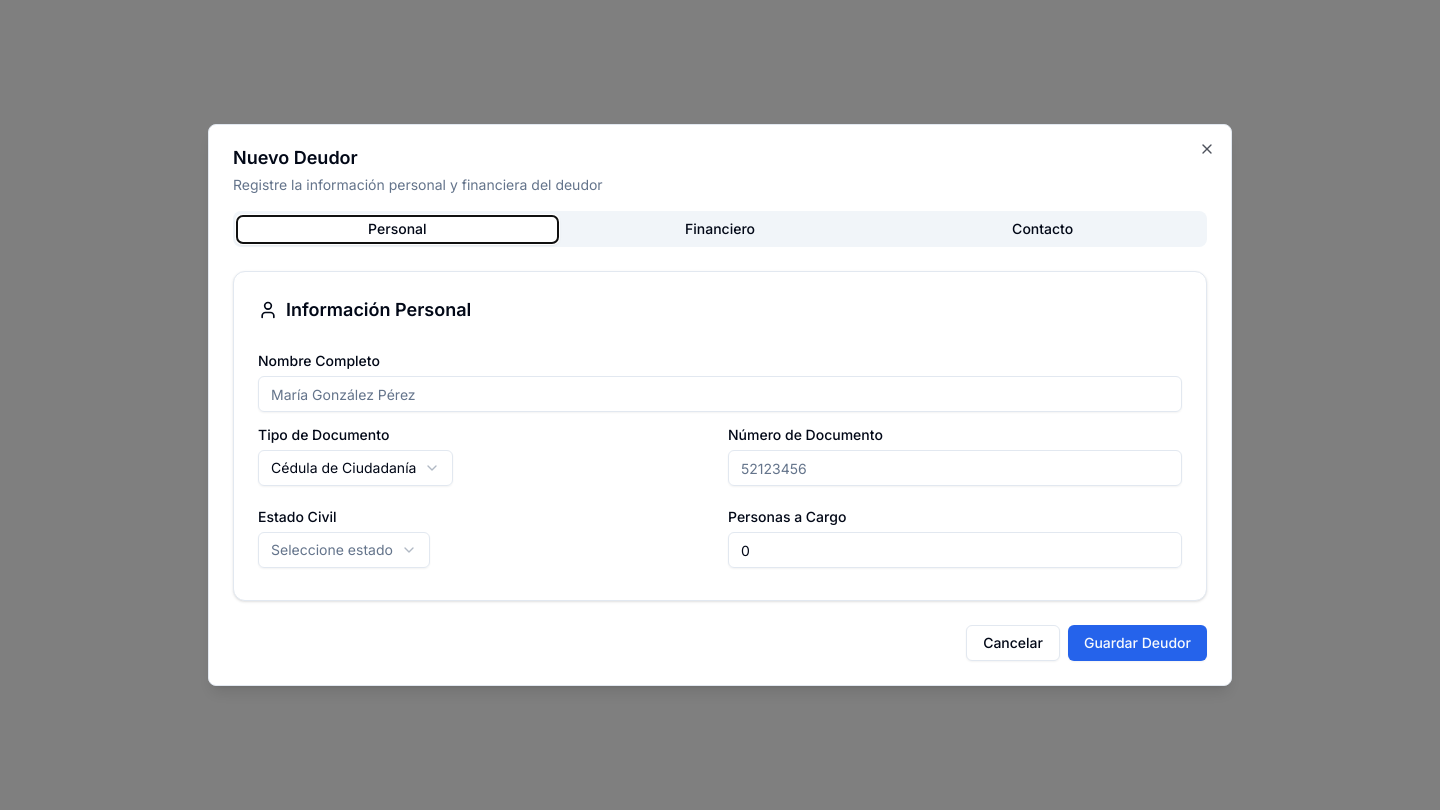
it: Nuevo Deudor (debtors/create-debtor-dialog) › al guardar con el nombre vacío SÍ muestra el error
This screenshot has width=1440, height=810.
Click the button "Guardar Deudor" at (1138, 643), box left=1068, top=625, right=1207, bottom=661
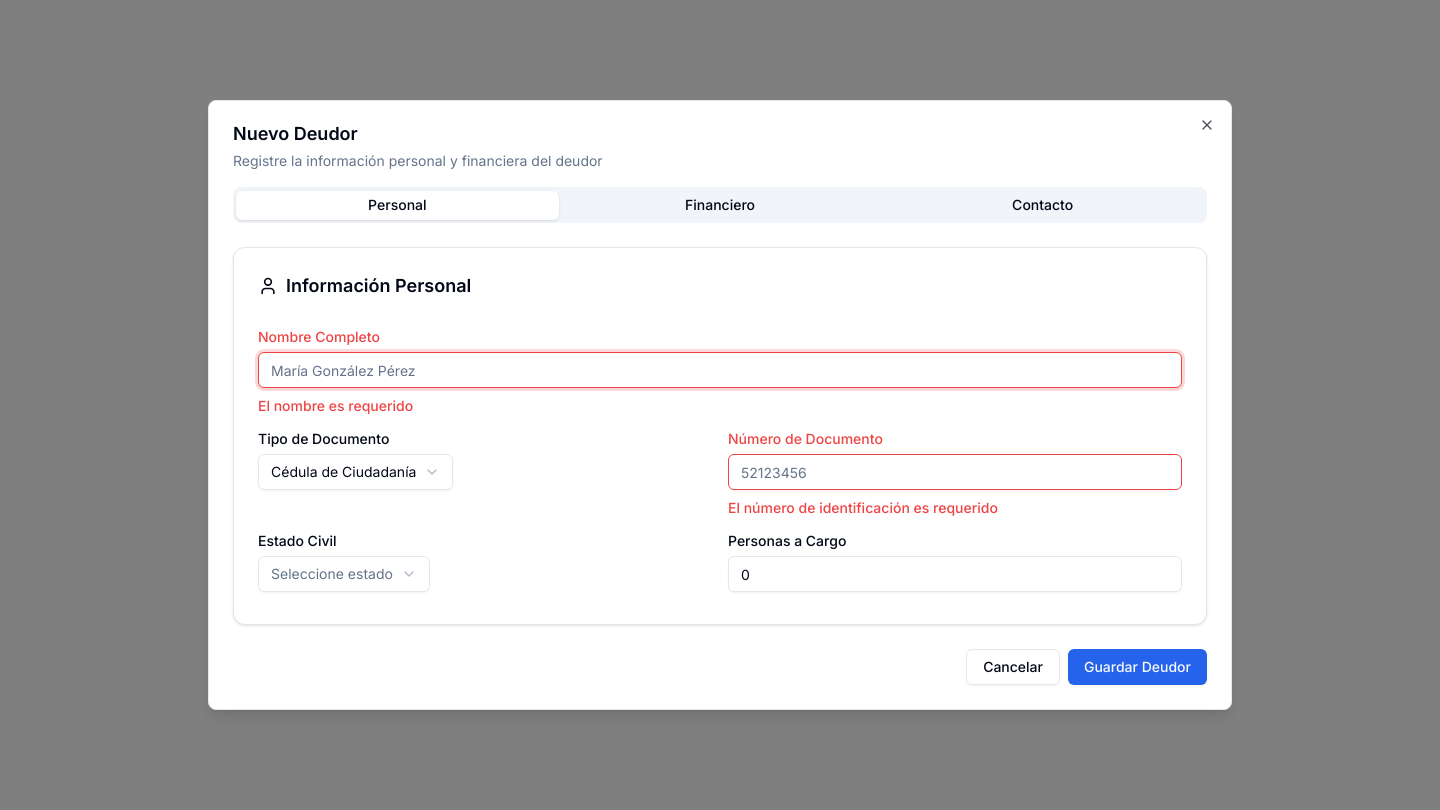
Check: the text "El nombre es requerido" is shown, box left=258, top=397, right=413, bottom=414
